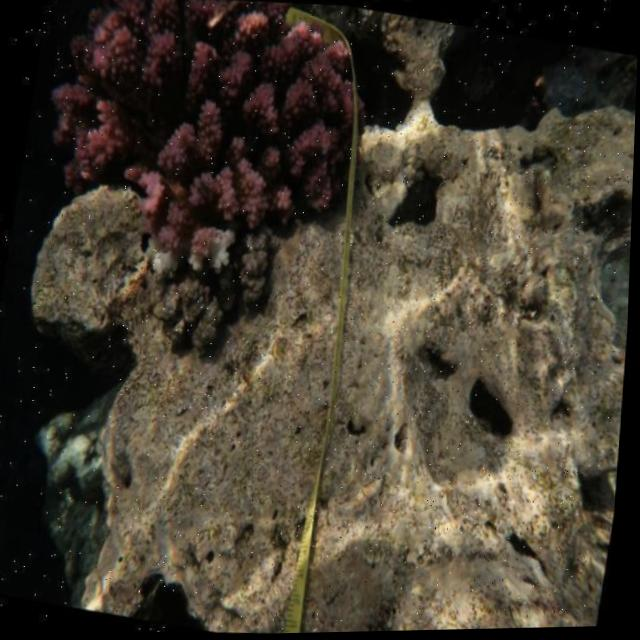Bleached Coral: (128, 226, 187, 286), (188, 230, 236, 275)
Healthy Coral: (28, 0, 371, 254)
